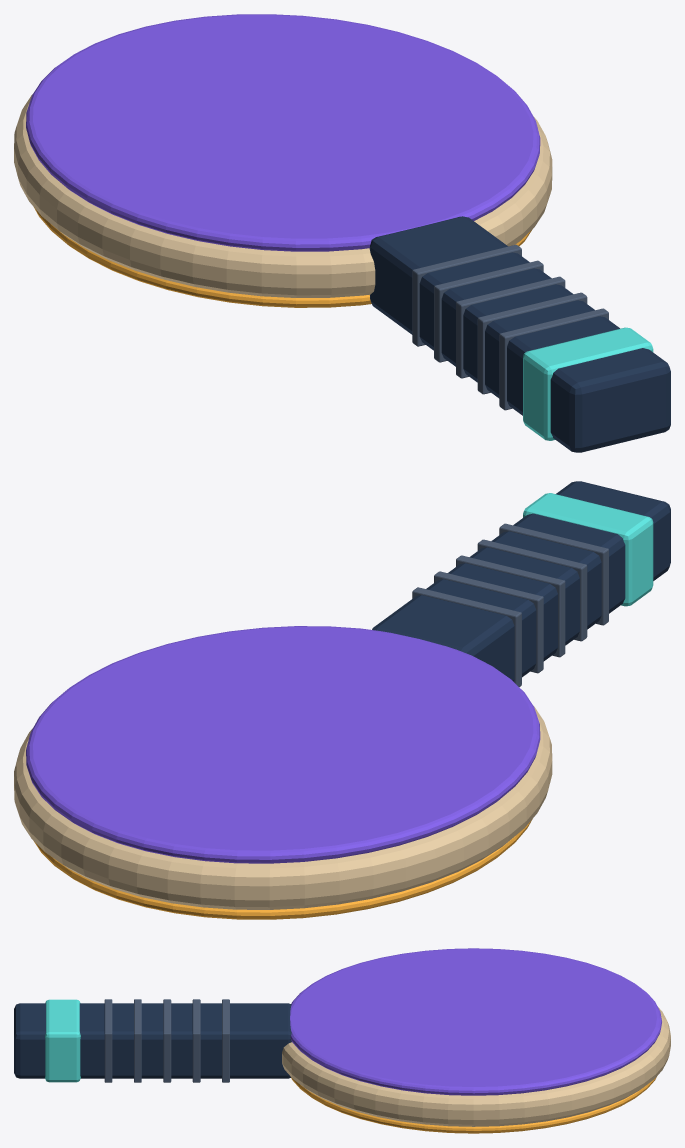
File: Paddle.glb
3 views of the same model, one above another, from view 1: azimuth 30°, elevation 25°; view 2: azimuth 150°, elevation 25°; view 3: azimuth 270°, elevation 25° (orthographic). The views are drawn at different scales.
Parts seen in each view (by area): view 1: PurpleRubber, Handle, MapleRim, GripBand, OrangeRubber, GripRidge.001, GripRidge, GripRidge.003, GripRidge.004, GripRidge.002; view 2: PurpleRubber, MapleRim, Handle, GripBand, OrangeRubber, GripRidge.001, GripRidge.002, GripRidge.003, GripRidge, GripRidge.004; view 3: PurpleRubber, Handle, MapleRim, GripBand, OrangeRubber, GripRidge.002, GripRidge, GripRidge.003, GripRidge.001, GripRidge.004.
Part boxes in pixels (x1,y1,x2,y2): PurpleRubber: (26,14,540,251); Handle: (369,216,670,452); MapleRim: (14,94,552,297); GripBand: (523,327,653,440); OrangeRubber: (34,207,532,307); GripRidge.001: (477,292,587,394); GripRidge: (499,308,608,410); GripRidge.003: (434,260,543,362); GripRidge.004: (412,244,521,346); GripRidge.002: (456,276,565,378); PurpleRubber: (26,626,540,863); MapleRim: (14,706,552,909); Handle: (372,481,670,681); GripBand: (523,493,653,606); OrangeRubber: (34,819,532,919); GripRidge.001: (477,539,587,641); GripRidge.002: (456,555,565,657); GripRidge.003: (434,571,543,673); GripRidge: (499,523,608,625); GripRidge.004: (412,587,521,687); PurpleRubber: (290,948,661,1095); Handle: (14,1003,291,1078); MapleRim: (282,1007,670,1126); GripBand: (45,999,80,1082); OrangeRubber: (291,1077,656,1133); GripRidge.002: (163,999,171,1082); GripRidge: (104,999,112,1082); GripRidge.003: (192,999,200,1082); GripRidge.001: (134,999,141,1082); GripRidge.004: (222,999,229,1082).
Bounding box in the file's own units: 0.54 × 0.085 × 1.01.
